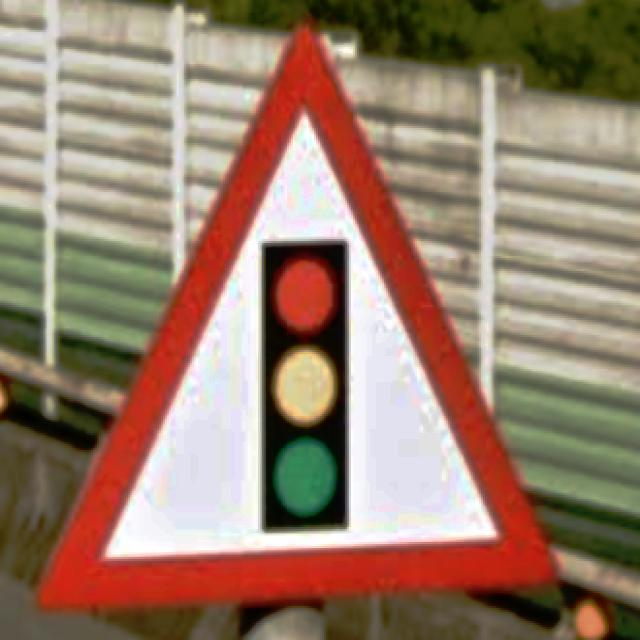signalahead: (35, 17, 563, 615)
